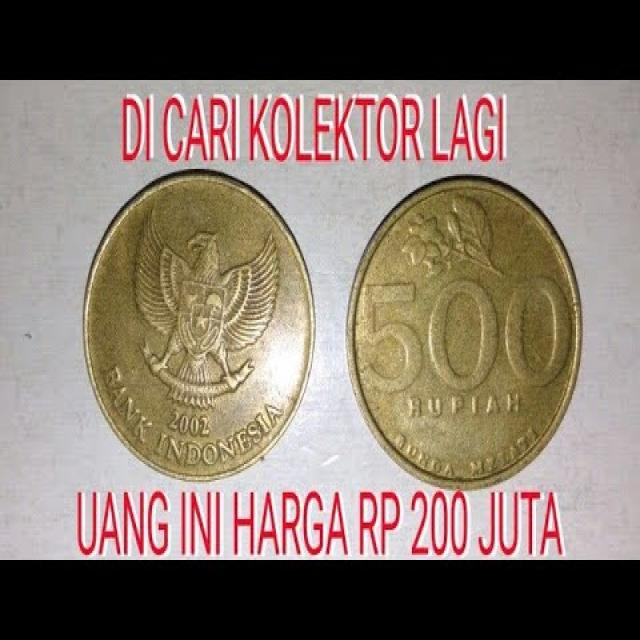500-kuning: (343, 170, 583, 483)
